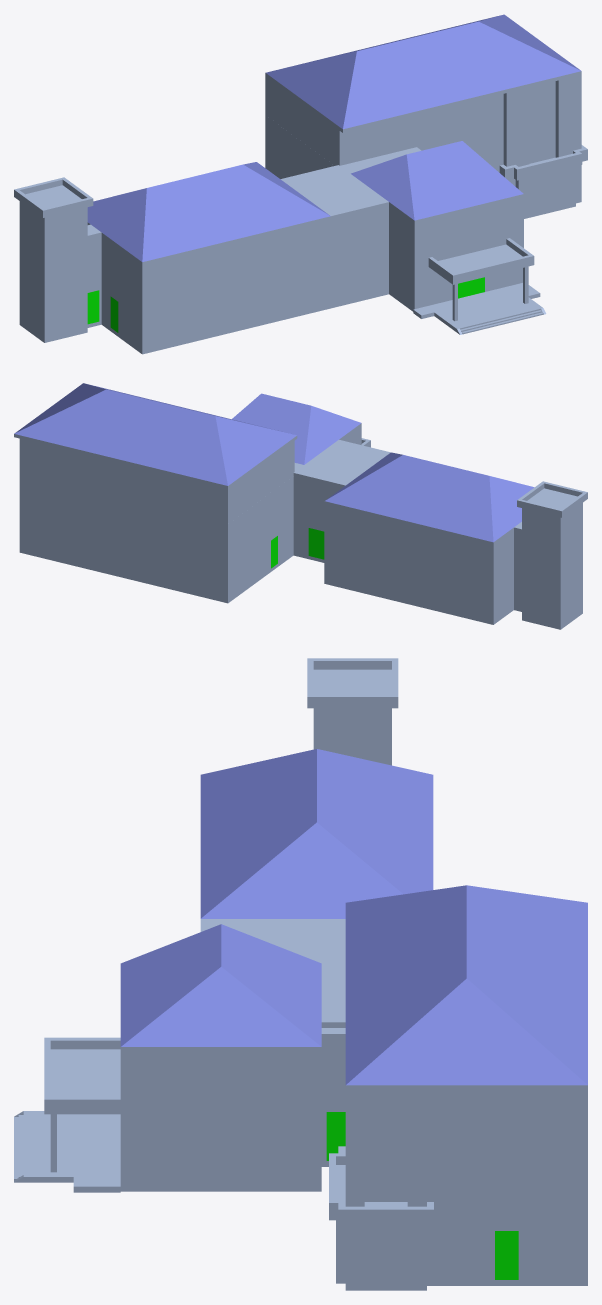
Rendered from Administration_Complex.glb.
The picture shows the model from 3 angles, top to bottom: view 1: azimuth 30°, elevation 25°; view 2: azimuth 150°, elevation 25°; view 3: azimuth 270°, elevation 25°; orthographic projection. The views are drawn at different scales.
Visible parts, largest first — view 1: Floor3, Floor2, Floor1, Roof; view 2: Floor3, Floor2, Floor1, Roof; view 3: Floor3, Roof, Floor1, Floor2.
Part boxes in pixels (x1=…): Floor3: x1=19, y1=75, x2=581, y2=269; Floor2: x1=19, y1=117, x2=587, y2=311; Floor1: x1=19, y1=161, x2=581, y2=354; Roof: x1=14, y1=14, x2=581, y2=217; Floor3: x1=19, y1=393, x2=582, y2=553; Floor2: x1=19, y1=430, x2=582, y2=591; Floor1: x1=19, y1=514, x2=582, y2=629; Roof: x1=14, y1=383, x2=587, y2=517; Floor3: x1=120, y1=708, x2=587, y2=1157; Roof: x1=307, y1=658, x2=587, y2=1090; Floor1: x1=14, y1=1100, x2=587, y2=1290; Floor2: x1=44, y1=1028, x2=587, y2=1226.
Bounding box in the file's own units: 62.95 × 18.2 × 36.
